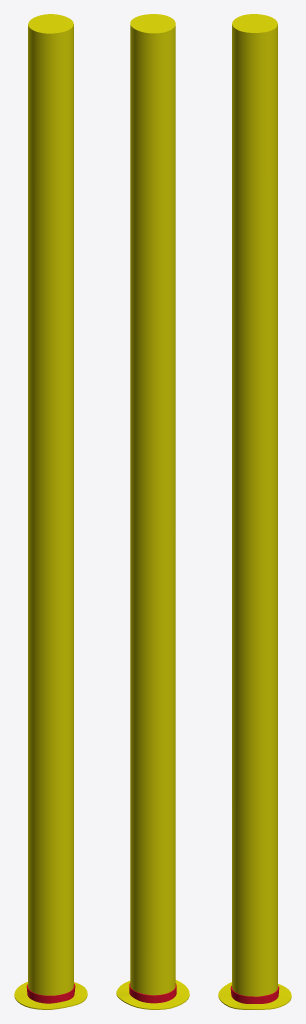
The model's file is imfunnyhat.fbx.
The picture shows the model from 3 angles, left to right: view 1: azimuth 90°, elevation 25°; view 2: azimuth 210°, elevation 25°; view 3: azimuth 270°, elevation 25°; orthographic projection.
Visible parts, largest first — view 1: top, brim, ribbon; view 2: top, brim, ribbon; view 3: top, brim, ribbon.
Boxes of the visible parts, x1=… form: top: x1=28, y1=14, x2=73, y2=995; brim: x1=14, y1=982, x2=87, y2=1009; ribbon: x1=26, y1=983, x2=75, y2=1003; top: x1=130, y1=14, x2=175, y2=995; brim: x1=116, y1=980, x2=189, y2=1009; ribbon: x1=129, y1=983, x2=176, y2=1003; top: x1=232, y1=14, x2=277, y2=996; brim: x1=218, y1=982, x2=291, y2=1009; ribbon: x1=230, y1=985, x2=279, y2=1003.
Size of the model in its own units: 333 by 4867 by 333.
